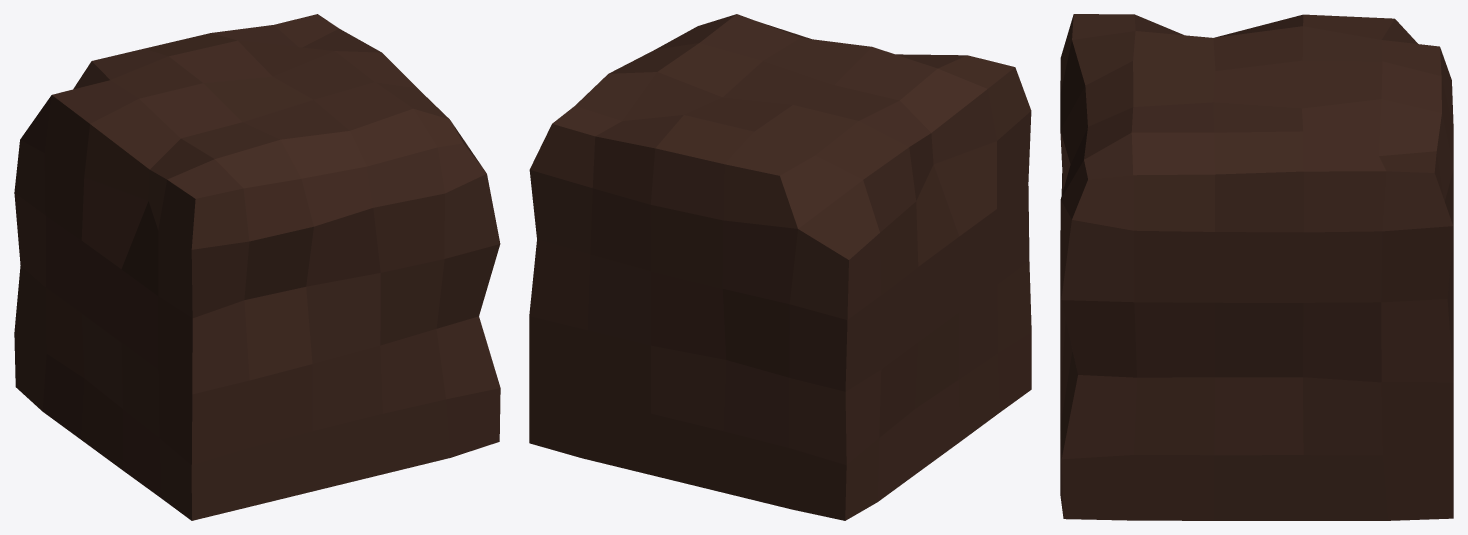
File: basic_ground_1.fbx
3 renders of one model, left to right at view 1: azimuth 30°, elevation 25°; view 2: azimuth 150°, elevation 25°; view 3: azimuth 270°, elevation 25°, orthographic. The views are drawn at different scales.
Parts seen in each view (by area): view 1: ground_1; view 2: ground_1; view 3: ground_1.
Part boxes in pixels (bbox=[...]): ground_1: bbox=[14, 14, 500, 520]; ground_1: bbox=[529, 14, 1031, 520]; ground_1: bbox=[1060, 14, 1453, 520].
Bounding box in the file's own units: 400 × 405 × 400.
